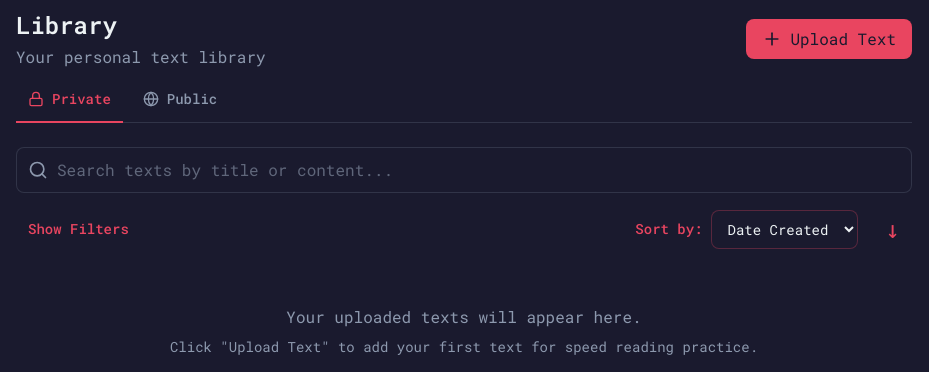
it: Library page › upload button visibility › should not show upload button for non-admin on public tab
Click the button "Public" at (180, 100), box top-left (131, 77), bottom-right (229, 123)
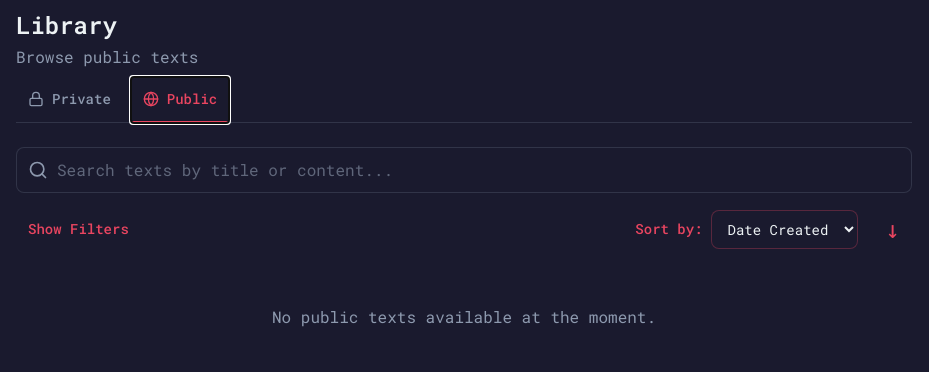
Expected: the button "Upload Text" is gone
